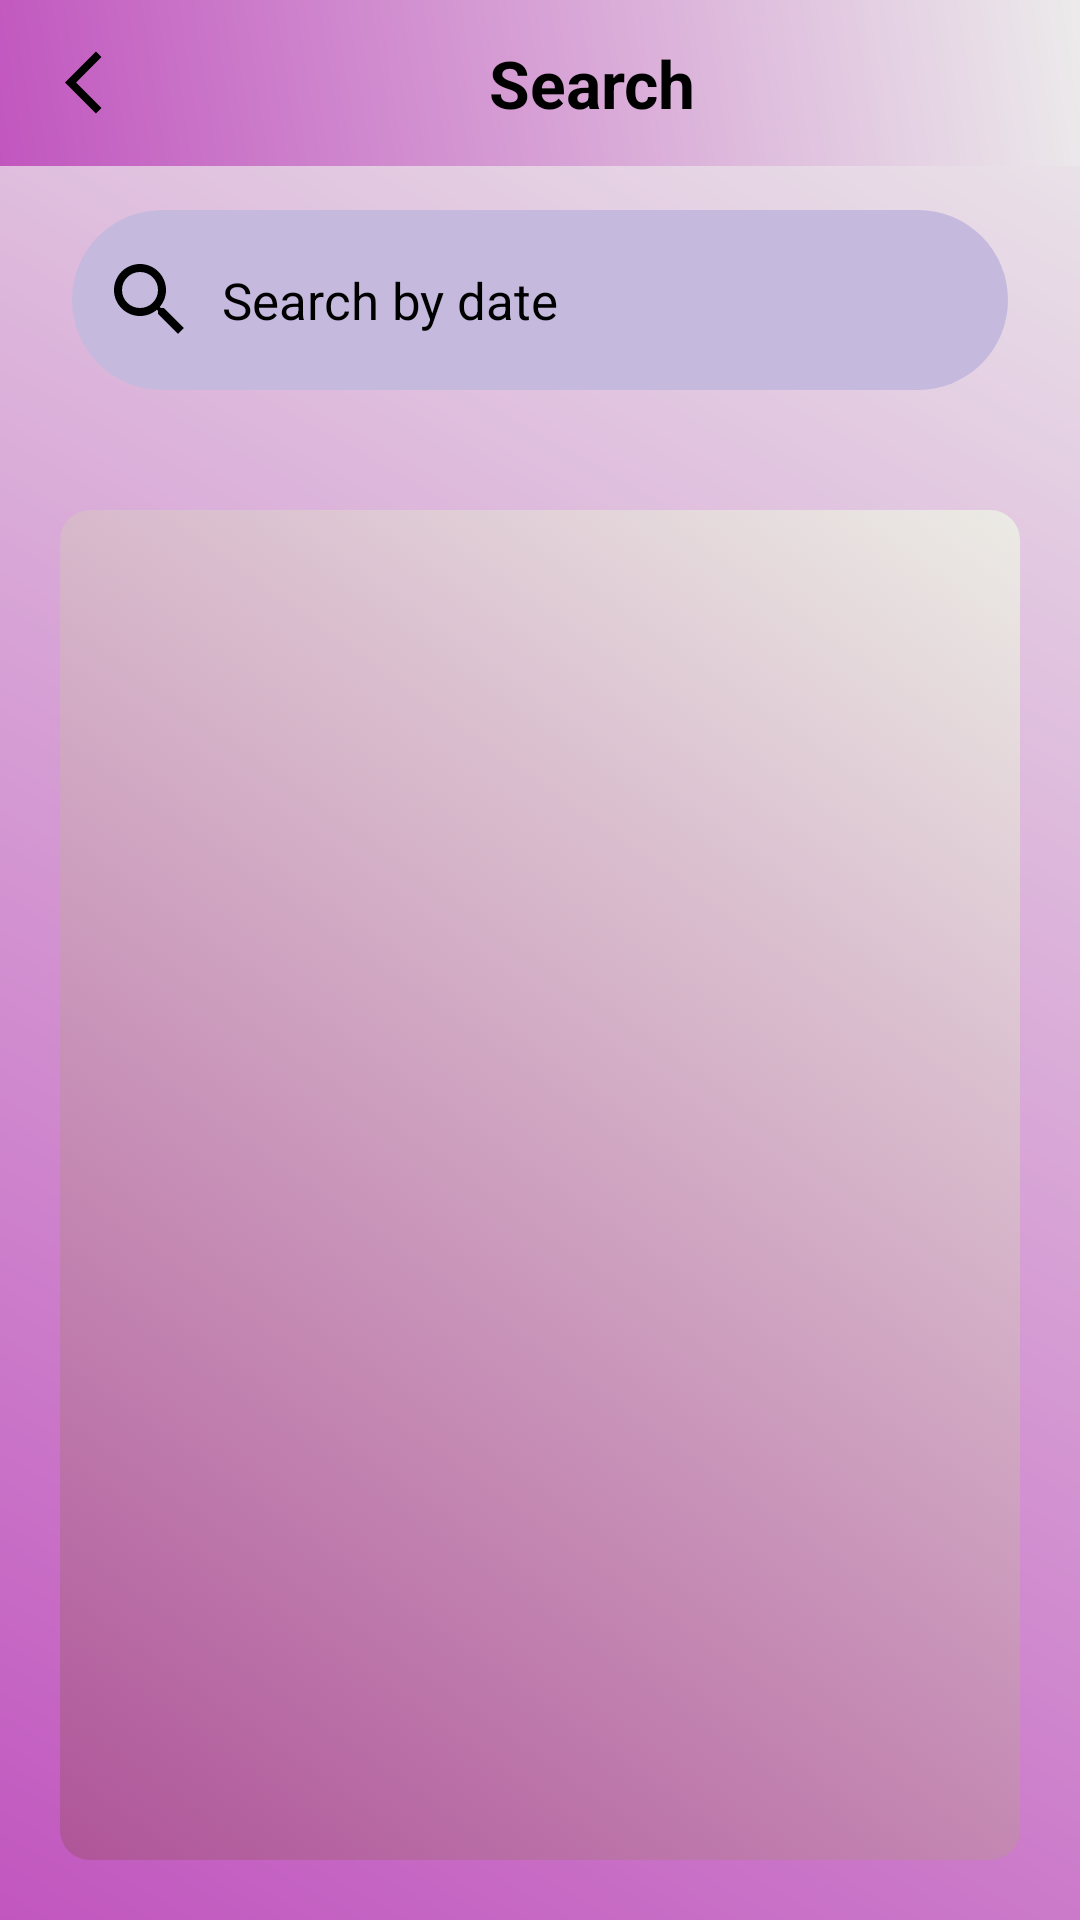

Icons on this 1080*1920 Android screen, each with the point to tap as (x,y):
Back Arrow: (83,82)
